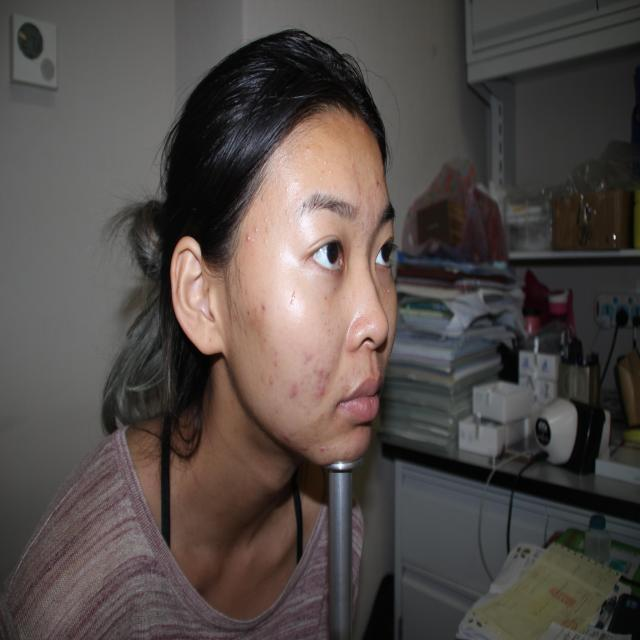acne: (310, 363, 331, 384), (288, 376, 301, 408), (368, 172, 386, 194), (266, 369, 280, 393), (315, 382, 330, 403), (258, 298, 271, 319), (281, 426, 292, 450), (241, 229, 254, 246)
